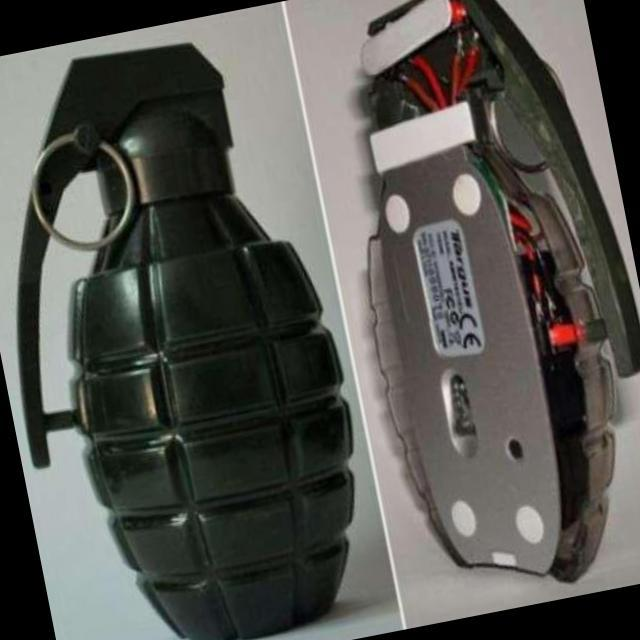grenade: (0, 9, 394, 640)
